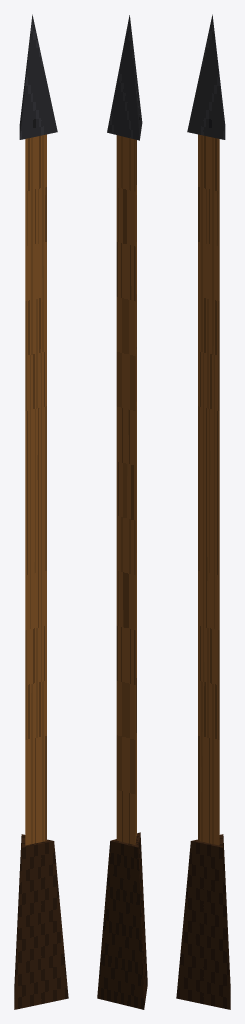
File: comun.glb
3 renders of one model, left to right at view 1: azimuth 90°, elevation 25°; view 2: azimuth 150°, elevation 25°; view 3: azimuth 270°, elevation 25°, orthographic.
Parts seen in each view (by area): view 1: astil, plumas, punta; view 2: astil, plumas, punta; view 3: astil, plumas, punta.
Part boxes in pixels (left/top/right/bottom): astil: left=25, top=134, right=46, bottom=845; plumas: left=14, top=834, right=68, bottom=1009; punta: left=19, top=14, right=57, bottom=139; astil: left=116, top=135, right=136, bottom=844; plumas: left=97, top=832, right=147, bottom=1009; punta: left=107, top=15, right=142, bottom=140; astil: left=198, top=134, right=219, bottom=845; plumas: left=176, top=834, right=230, bottom=1009; punta: left=187, top=14, right=225, bottom=139.
Size of the model in its own units: 0.02 by 0.4 by 0.02.
1 material, 1 textured.
